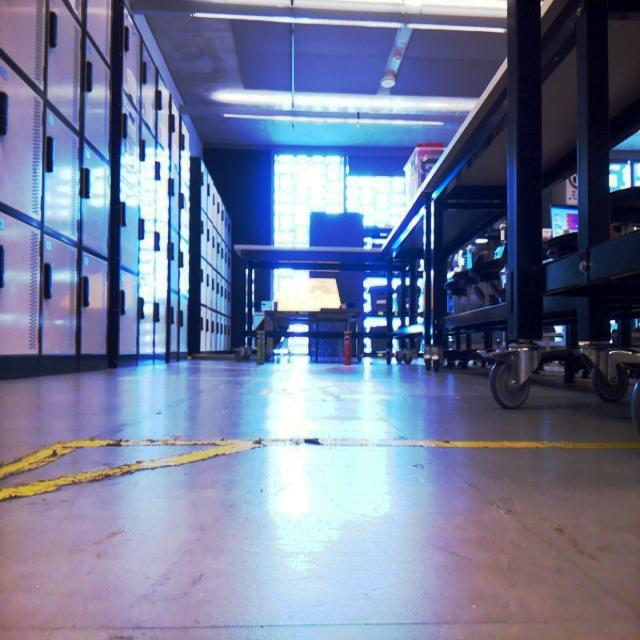greenpringles: (250, 322, 282, 371)
redpringles: (341, 320, 356, 366)
